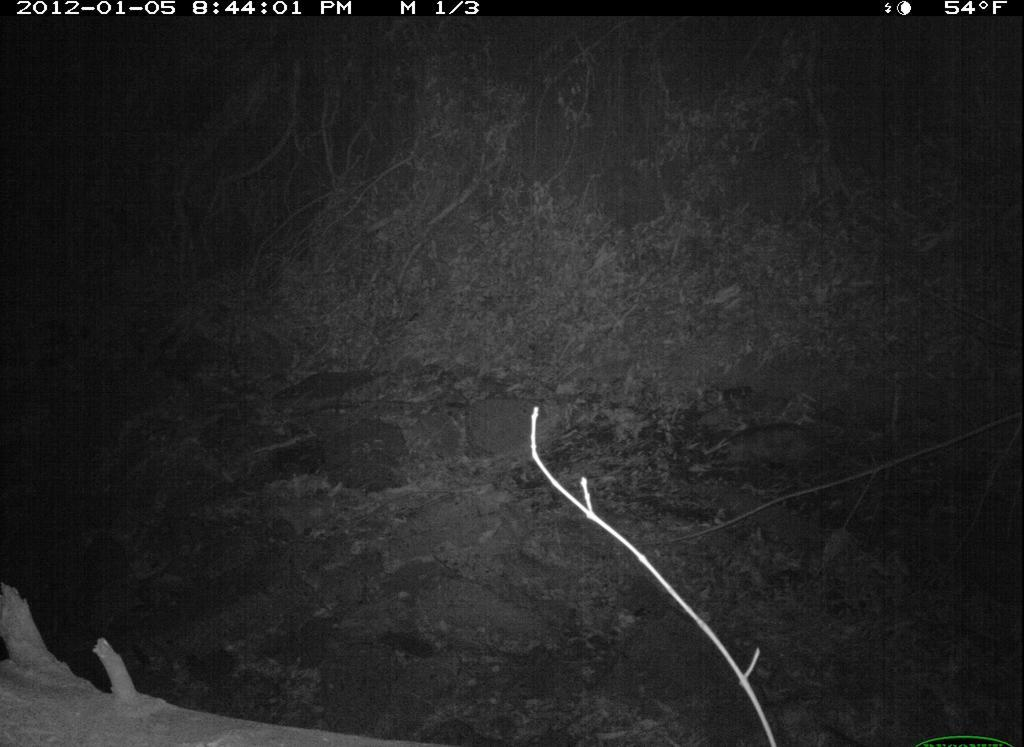opossum: (733, 420, 871, 488)
